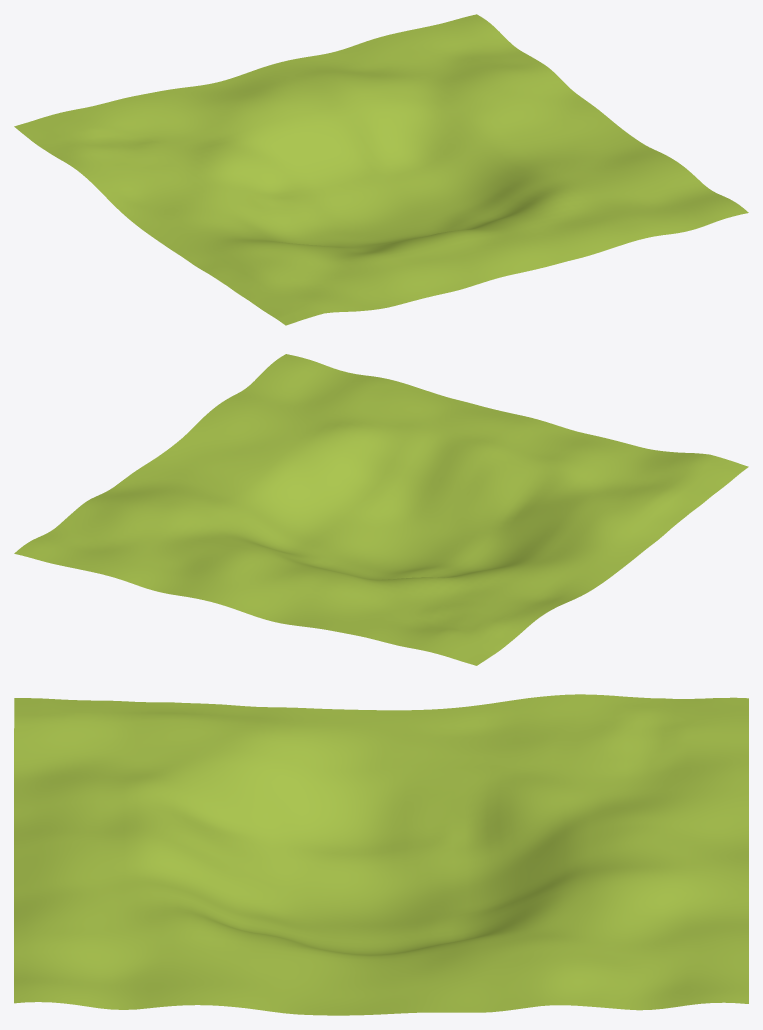
File: bosse_neg4.fbx
The picture shows the model from 3 angles, top to bottom: view 1: azimuth 30°, elevation 25°; view 2: azimuth 150°, elevation 25°; view 3: azimuth 270°, elevation 25°; orthographic projection. The views are drawn at different scales.
Parts seen in each view (by area): view 1: bosse_neg4; view 2: bosse_neg4; view 3: bosse_neg4.
Part boxes in pixels (x1,y1,x2,y2): bosse_neg4: (14,14,748,325); bosse_neg4: (14,354,748,665); bosse_neg4: (14,694,748,1015).
Size of the model in its own units: 708 by 79.62 by 720.
